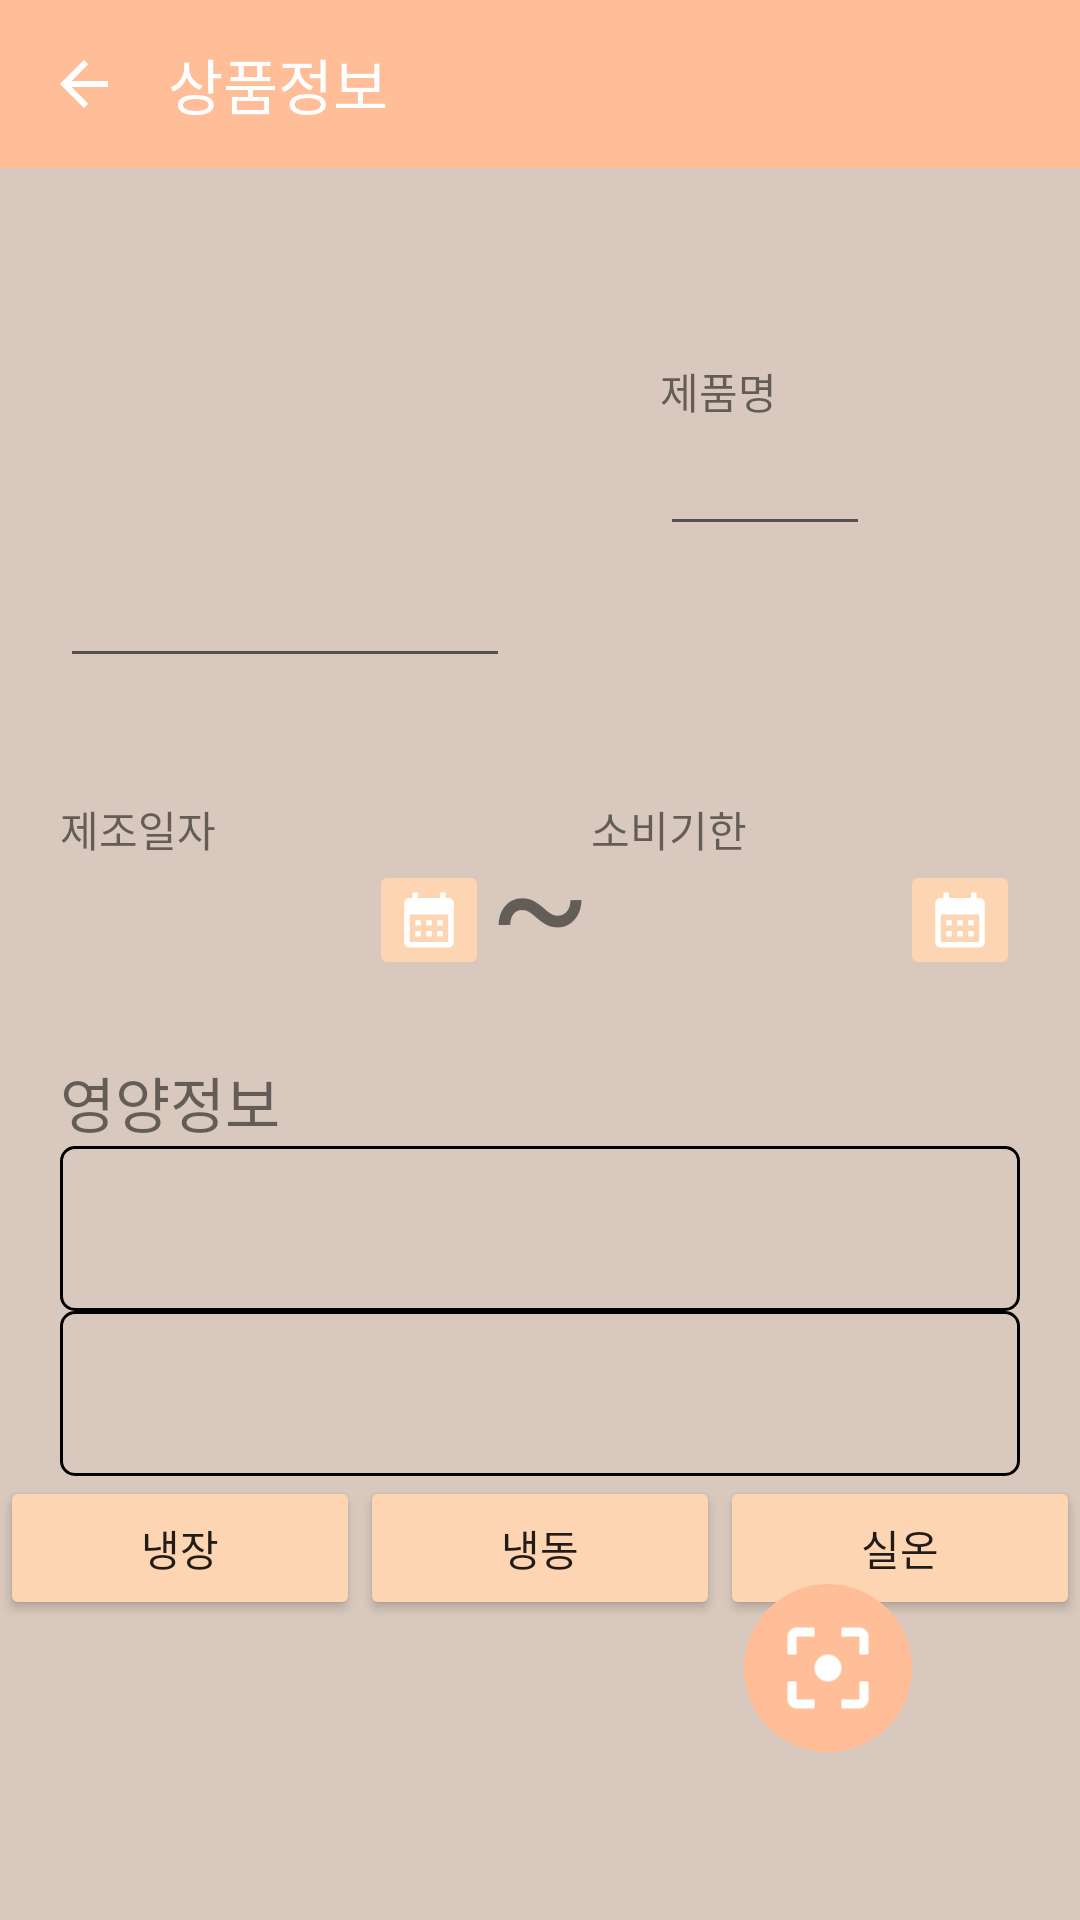

Icons on this 1080 x 1920 Android screen, each with the point to tap as (x,y):
arrow back: (84,84)
calender: (429,920), (960,920)
filter center focus: (828,1668)
